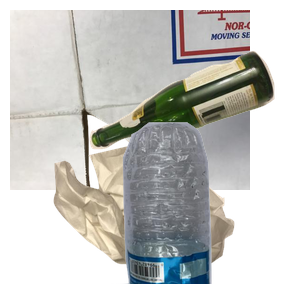cardboard: (10, 10, 250, 190)
glass: (87, 48, 300, 190)
plastic: (111, 120, 300, 300)
trash: (51, 142, 278, 300)
